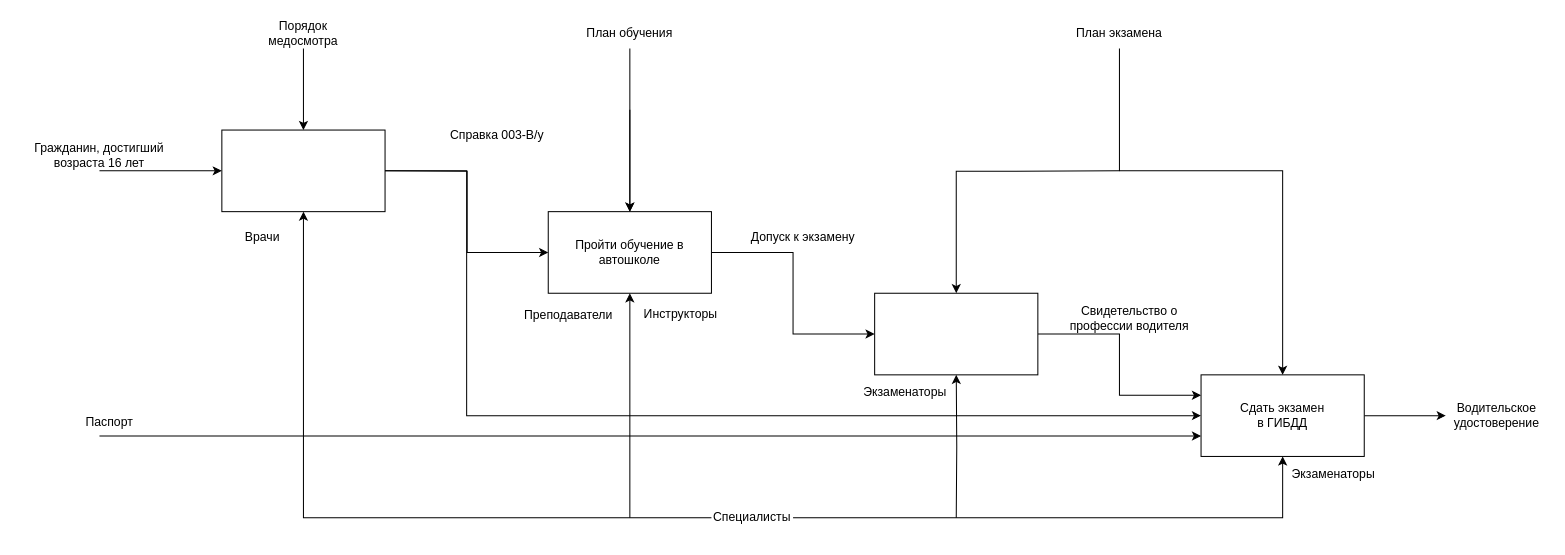
Image size: 1565x555. Some labels were removed from this diagram. Here are the shapes that lost their labels. From the top down, the centre of each, then its label:
(x=303, y=170): Пройти медосмотр
(x=956, y=333): Сдать экзамен в автошколе
